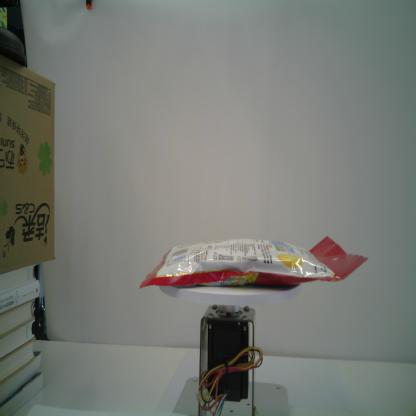Instant Drink: (139, 233, 370, 288)
